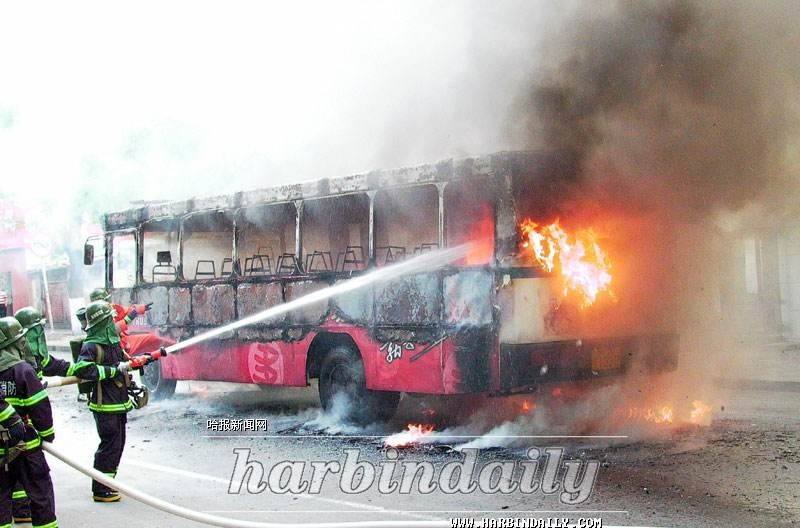fire: (519, 217, 615, 306)
